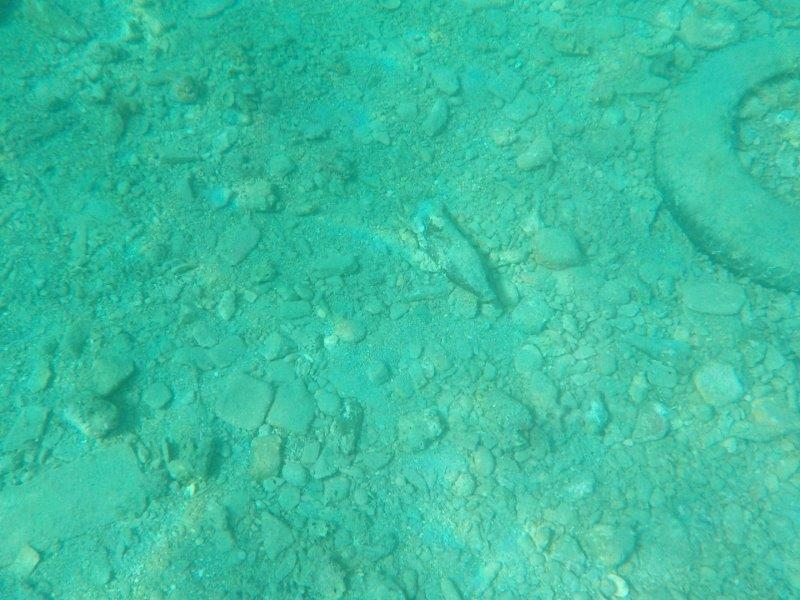bottle: (399, 193, 505, 312)
tire: (645, 20, 800, 296)
